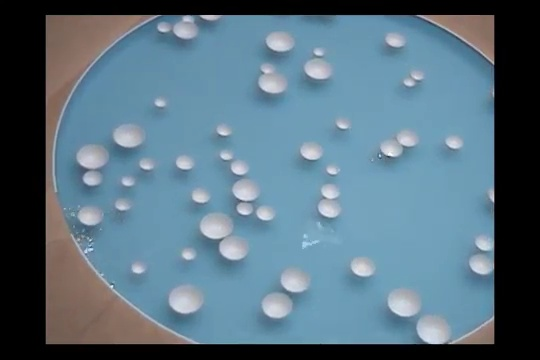bowl: (166, 283, 204, 314), (197, 211, 236, 241), (415, 313, 454, 343), (386, 287, 423, 317), (112, 122, 148, 152), (260, 291, 295, 320), (216, 235, 251, 262), (279, 266, 312, 294), (75, 143, 110, 169), (303, 58, 335, 85), (263, 30, 297, 55), (230, 176, 262, 202), (257, 73, 290, 97), (467, 251, 493, 277), (349, 255, 376, 279), (315, 198, 344, 219), (173, 20, 200, 41), (298, 141, 325, 162), (379, 137, 404, 159), (78, 205, 104, 226), (396, 128, 421, 149), (442, 133, 467, 151), (383, 30, 407, 48), (255, 205, 277, 223), (234, 200, 256, 218), (191, 185, 211, 204), (474, 234, 494, 253), (319, 181, 340, 199), (82, 170, 104, 187), (229, 159, 252, 175), (114, 196, 135, 212), (131, 258, 149, 276), (175, 155, 195, 170), (214, 123, 235, 137), (335, 116, 353, 132), (180, 246, 198, 262), (139, 157, 158, 171), (153, 95, 169, 111), (156, 21, 173, 35), (259, 62, 277, 75), (410, 69, 425, 84), (219, 148, 235, 161), (200, 15, 225, 23), (121, 174, 136, 187), (401, 76, 416, 89), (310, 46, 326, 58), (326, 164, 341, 176), (182, 15, 197, 23), (489, 189, 493, 204)
